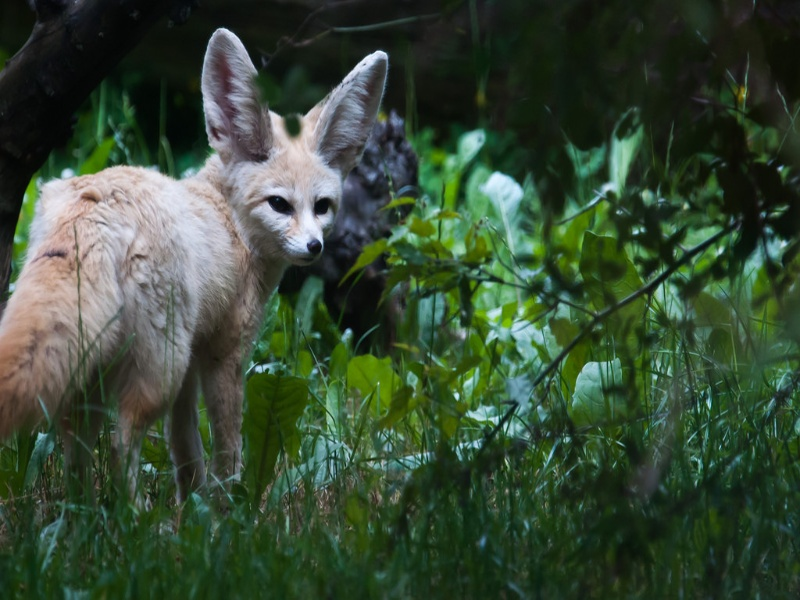fox: (1, 29, 395, 522)
